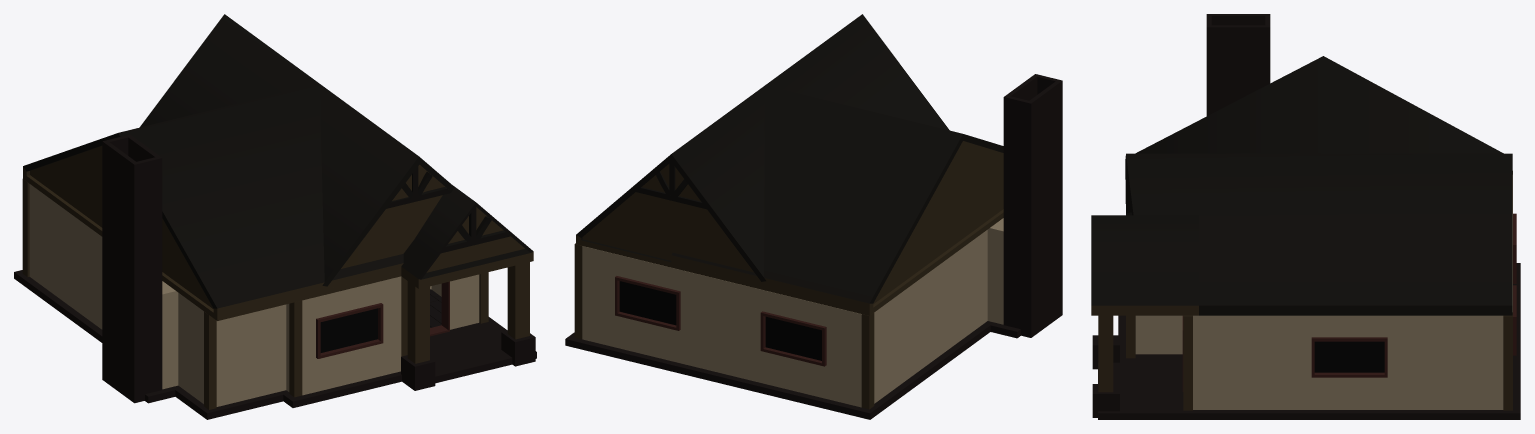
Rendered from odaczone_sciany (3).fbx.
3 views of the same model, side by side, from view 1: azimuth 30°, elevation 25°; view 2: azimuth 150°, elevation 25°; view 3: azimuth 270°, elevation 25° (orthographic).
Visible parts, largest first — view 1: rooftop, chimney, ściana5, floor, ściana3, ściana4, columns, rooftop piece, glass, jedna kolumna drzwi; view 2: rooftop, ściana6, chimney, ściana5, floor, glass, columns, rooftop piece; view 3: rooftop, ściany, floor, chimney, columns, glass, ściana2.
Boxes of the visible parts, <box> form: rooftop: <box>23,14,535,390</box>; chimney: <box>102,134,162,403</box>; ściana5: <box>29,184,203,403</box>; floor: <box>14,270,536,419</box>; ściana3: <box>302,276,401,395</box>; ściana4: <box>216,304,289,406</box>; columns: <box>22,179,488,409</box>; rooftop piece: <box>386,166,510,253</box>; glass: <box>320,308,377,352</box>; jedna kolumna drzwi: <box>450,274,479,329</box>; rooftop: <box>576,14,1003,315</box>; ściana6: <box>582,246,861,407</box>; chimney: <box>1003,74,1062,337</box>; ściana5: <box>874,228,1003,403</box>; floor: <box>565,218,1020,419</box>; glass: <box>619,281,821,360</box>; columns: <box>574,243,874,409</box>; rooftop piece: <box>636,162,706,209</box>; rooftop: <box>1091,56,1512,417</box>; ściany: <box>1193,315,1503,409</box>; floor: <box>1098,175,1520,419</box>; chimney: <box>1206,14,1270,115</box>; columns: <box>1126,171,1512,410</box>; glass: <box>1314,341,1384,372</box>; ściana2: <box>1135,315,1182,354</box>.
Bounding box in the file's own units: 141 × 92.18 × 151.
